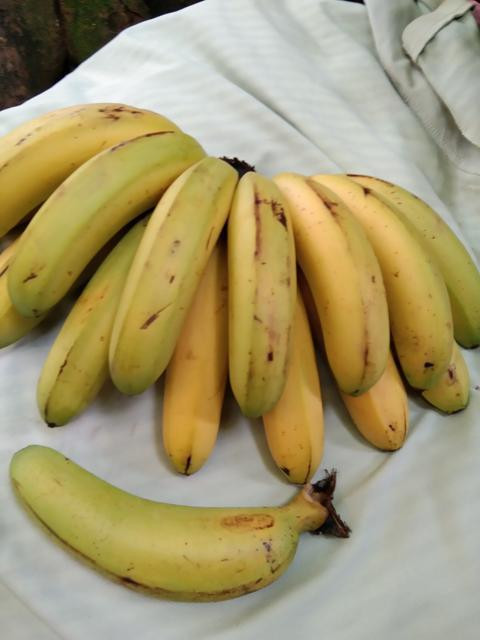freshripe: (0, 451, 303, 619)
ripe: (95, 141, 239, 395), (270, 165, 401, 410), (219, 166, 291, 415)
